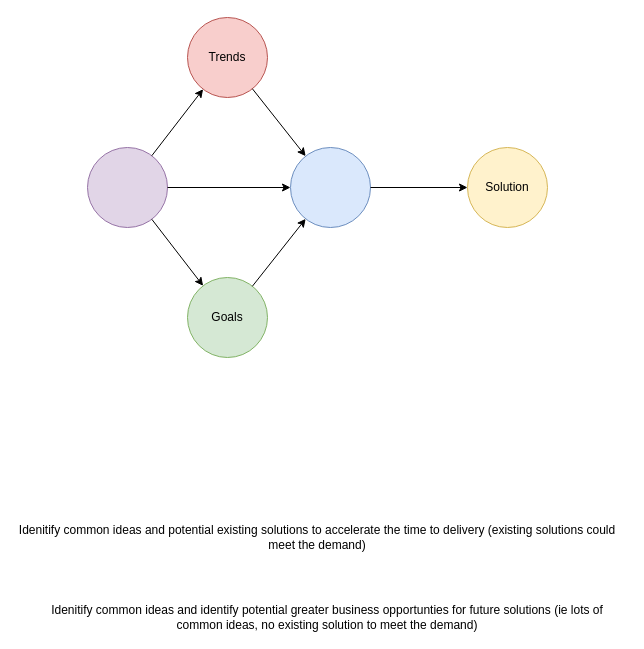
The diagram is 644 pixels wide and 649 high, and some of its shapes have lost their labels. Here are the shapes that lost their labels. From the top down, the centre of each, then its label:
At [127,187]: "IA".
At [330,187]: "Idea".
